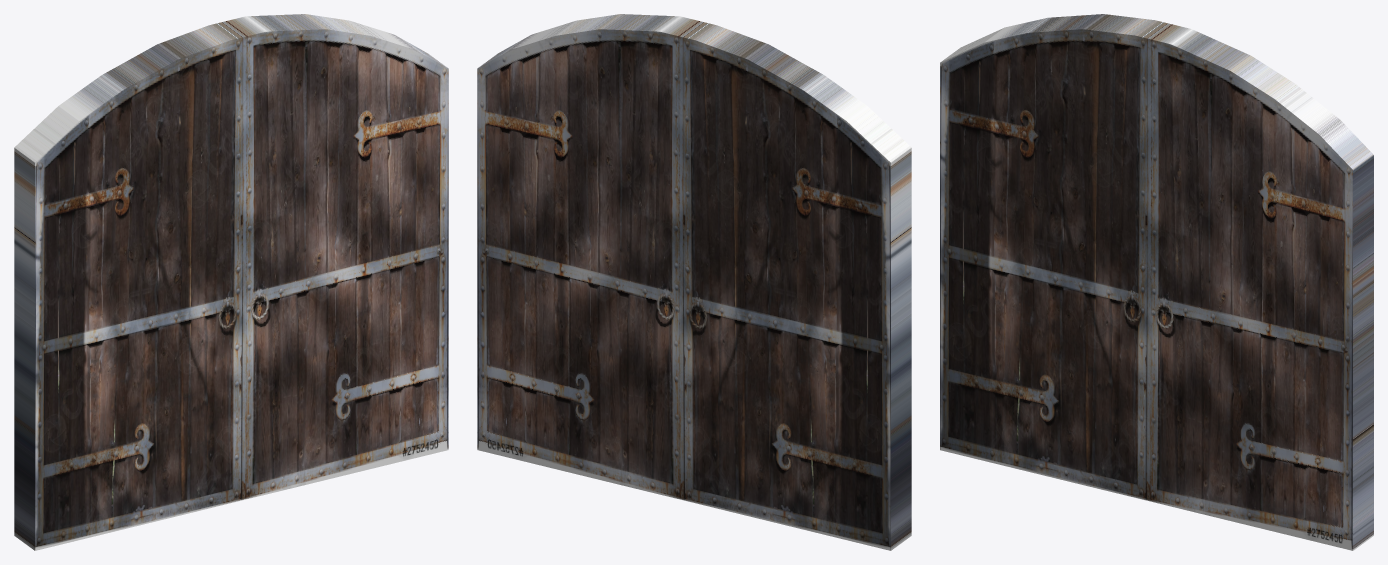
File: MedivealGate.fbx
The picture shows the model from 3 angles, left to right: view 1: azimuth 30°, elevation 25°; view 2: azimuth 150°, elevation 25°; view 3: azimuth 330°, elevation 25°; orthographic projection.
Visible parts, largest first — view 1: Cube.001; view 2: Cube.001; view 3: Cube.001.
Part boxes in pixels (x1,y1,x2,y2): Cube.001: (14, 14, 448, 550); Cube.001: (477, 14, 911, 550); Cube.001: (940, 14, 1373, 550).
Size of the model in its own units: 1762 by 153 by 1884.
